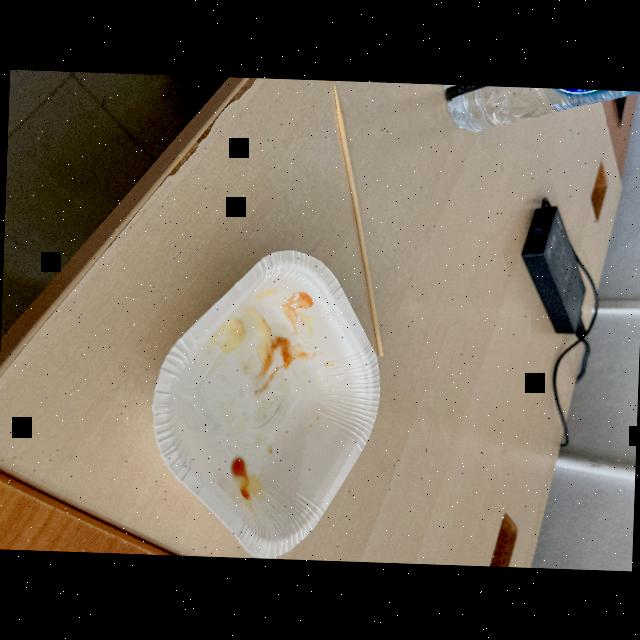cardboard_bowl: (146, 246, 390, 558)
stick: (314, 80, 398, 362)
